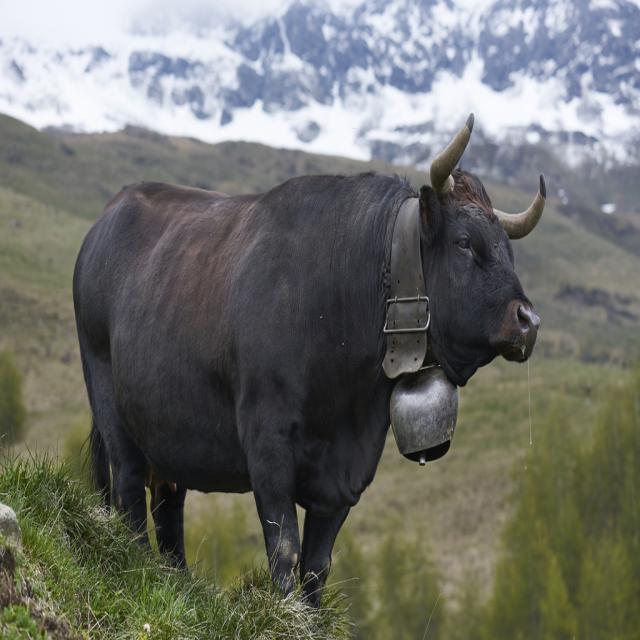Cattle: (72, 112, 546, 608)
